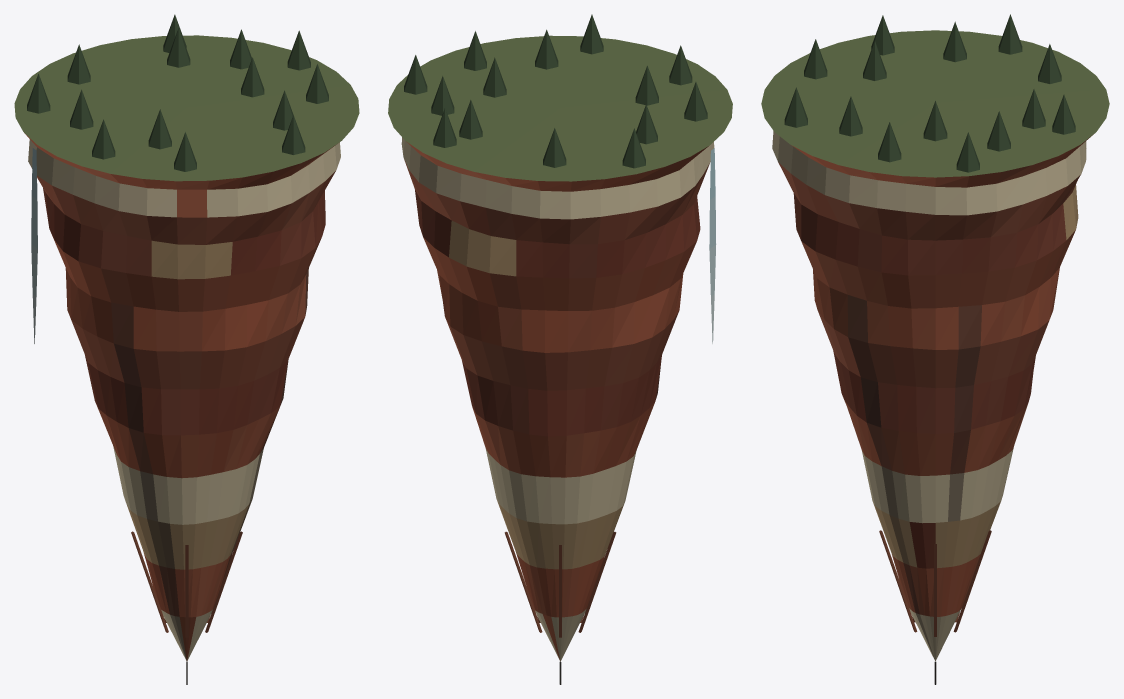
File: landmark_sky_island_mid.glb
The picture shows the model from 3 angles, left to right: view 1: azimuth 30°, elevation 25°; view 2: azimuth 150°, elevation 25°; view 3: azimuth 270°, elevation 25°; orthographic projection.
Visible parts, largest first — view 1: landmark_sky_island_mid; view 2: landmark_sky_island_mid; view 3: landmark_sky_island_mid.
Boxes of the visible parts, box(x1,y1,x2,y2) form: landmark_sky_island_mid: box(14, 14, 359, 684); landmark_sky_island_mid: box(388, 14, 732, 684); landmark_sky_island_mid: box(761, 14, 1109, 684).
Size of the model in its own units: 182 by 351 by 180.
